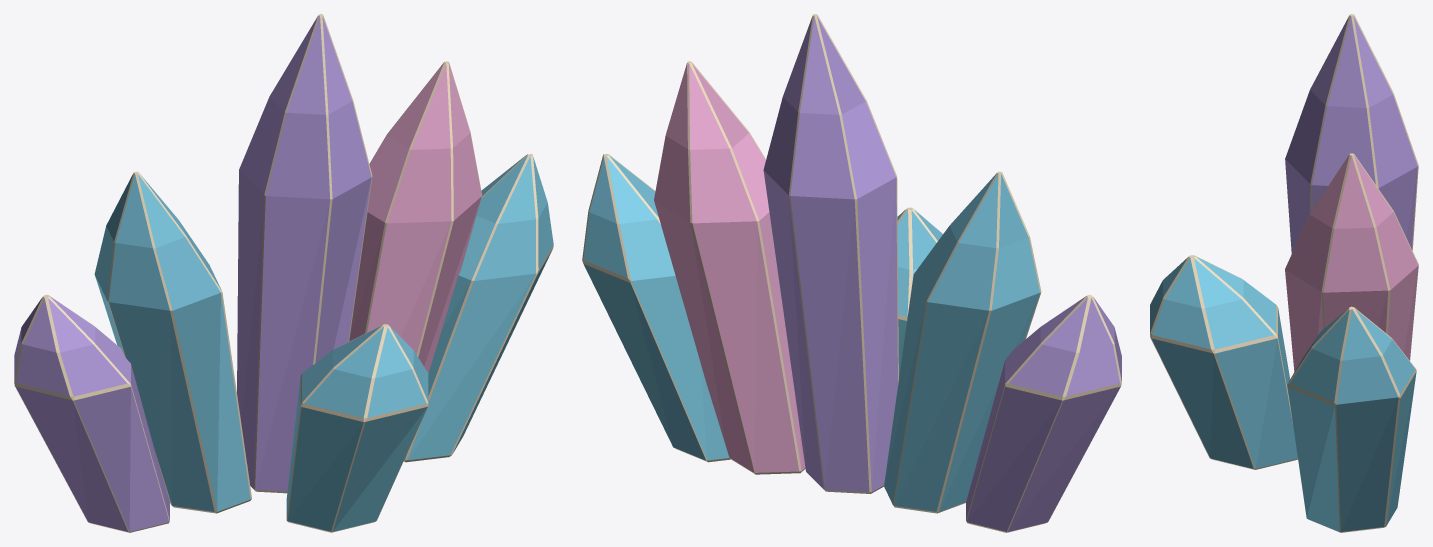
3 renders of one model, left to right at view 1: azimuth 30°, elevation 25°; view 2: azimuth 150°, elevation 25°; view 3: azimuth 270°, elevation 25°, orthographic.
Visible parts, largest first — view 1: Crystal_Fan_A_Geometry; view 2: Crystal_Fan_A_Geometry; view 3: Crystal_Fan_A_Geometry.
Boxes of the visible parts, x1=… form: Crystal_Fan_A_Geometry: x1=14, y1=14, x2=553, y2=532; Crystal_Fan_A_Geometry: x1=582, y1=14, x2=1121, y2=532; Crystal_Fan_A_Geometry: x1=1150, y1=14, x2=1418, y2=532.
Bounding box in the file's own units: 1.84 × 1.5 × 0.8073.
